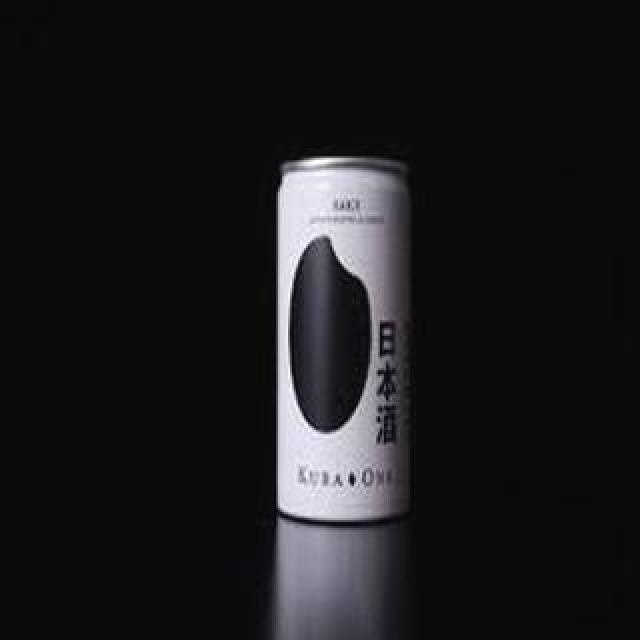Can: (267, 148, 449, 528)
